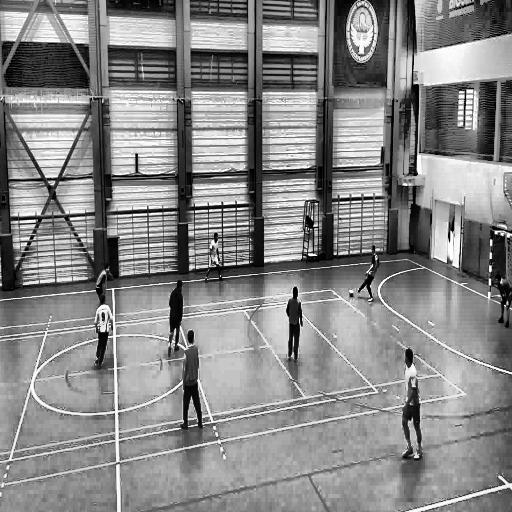ball: (348, 288, 355, 301)
player: (399, 348, 425, 463), (181, 328, 205, 433), (94, 294, 115, 375), (357, 243, 380, 308), (286, 286, 304, 366), (167, 280, 183, 356), (495, 270, 512, 331), (205, 233, 224, 283), (96, 261, 114, 303)
